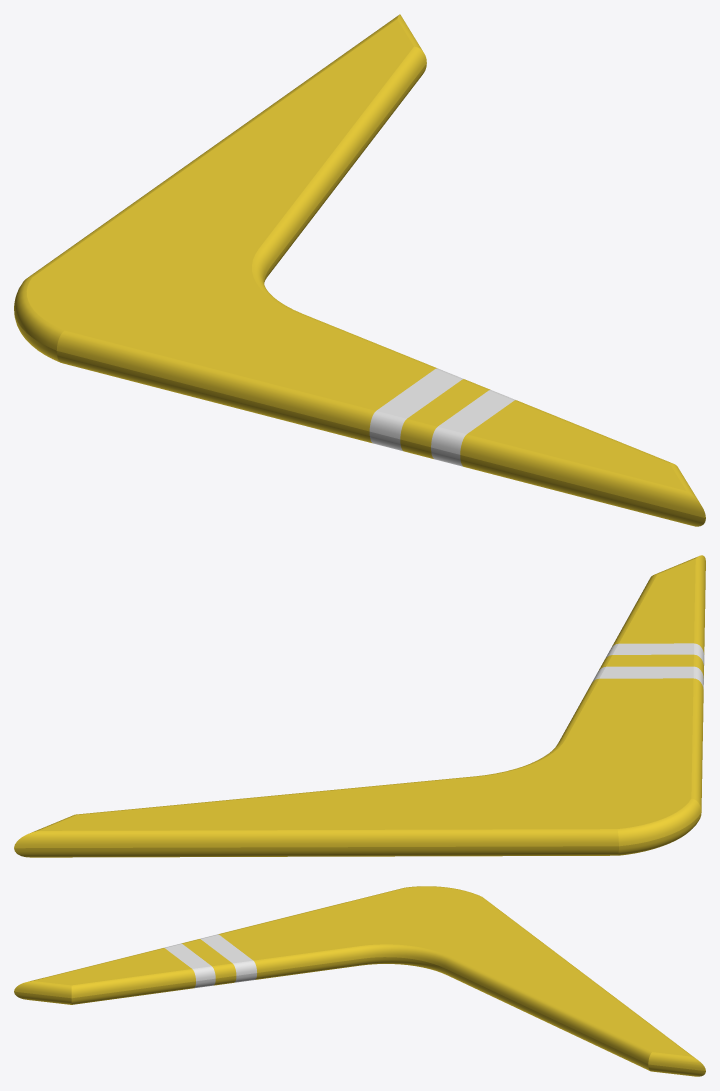
The model's file is boomerang.y.glb.
The picture shows the model from 3 angles, top to bottom: view 1: azimuth 30°, elevation 25°; view 2: azimuth 150°, elevation 25°; view 3: azimuth 270°, elevation 25°; orthographic projection. The views are drawn at different scales.
Visible parts, largest first — view 1: Main, White; view 2: Main, White; view 3: Main, White.
Part boxes in pixels (x1,y1,x2,y2): Main: (14, 14, 705, 526); White: (369, 368, 515, 466); Main: (14, 555, 705, 857); White: (592, 643, 704, 688); Main: (14, 886, 705, 1076); White: (164, 934, 256, 988).
Bounding box in the file's own units: 0.3623 × 0.0222 × 0.6042.
